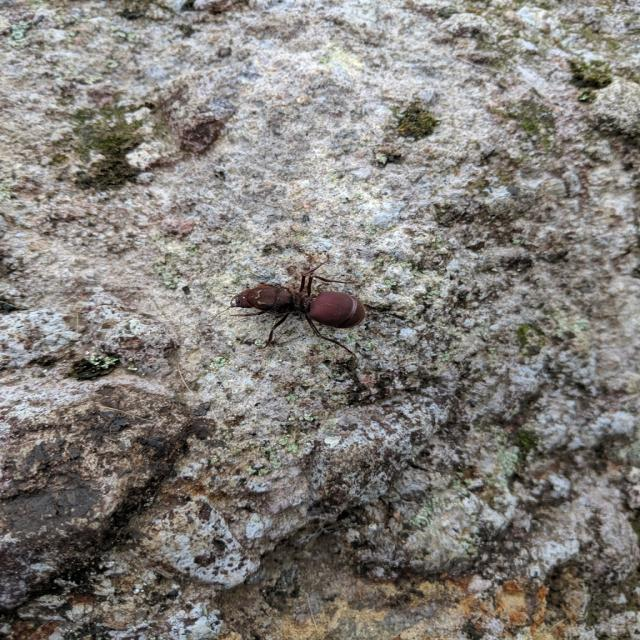Alive-Female-Dealate: (204, 260, 367, 360)
